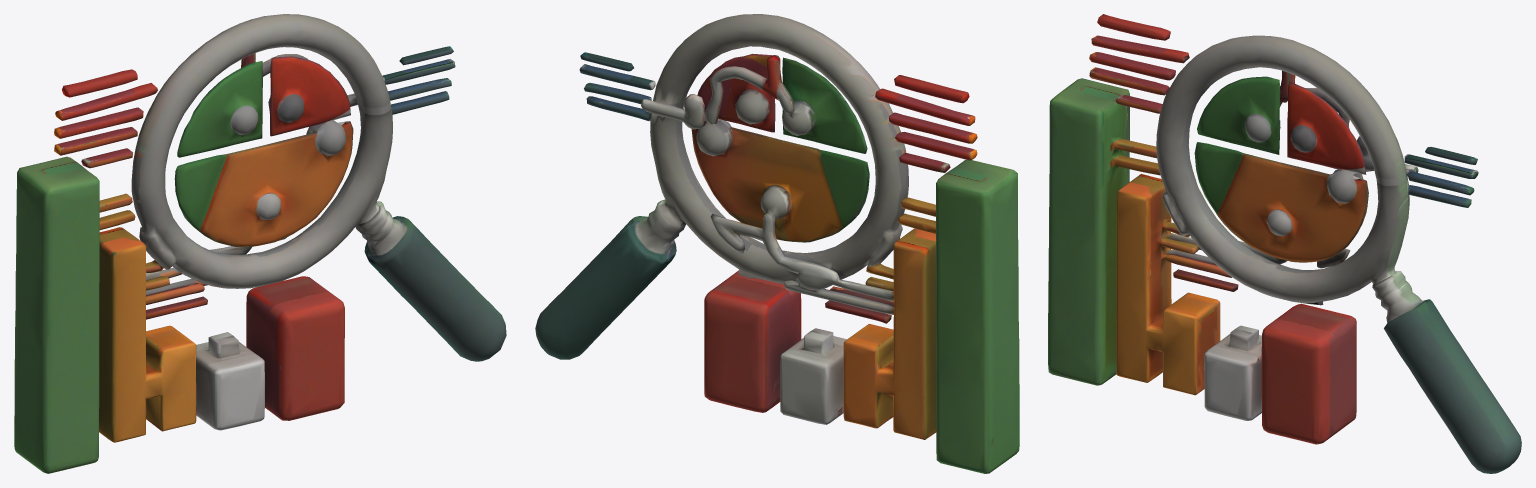
File: Adm_DataVis.glb
The picture shows the model from 3 angles, left to right: view 1: azimuth 30°, elevation 25°; view 2: azimuth 150°, elevation 25°; view 3: azimuth 330°, elevation 25°; orthographic projection. The views are drawn at different scales.
Size of the model in its own units: 2 by 1.59 by 0.3167.
Materials: 1 (1 with a texture image).
